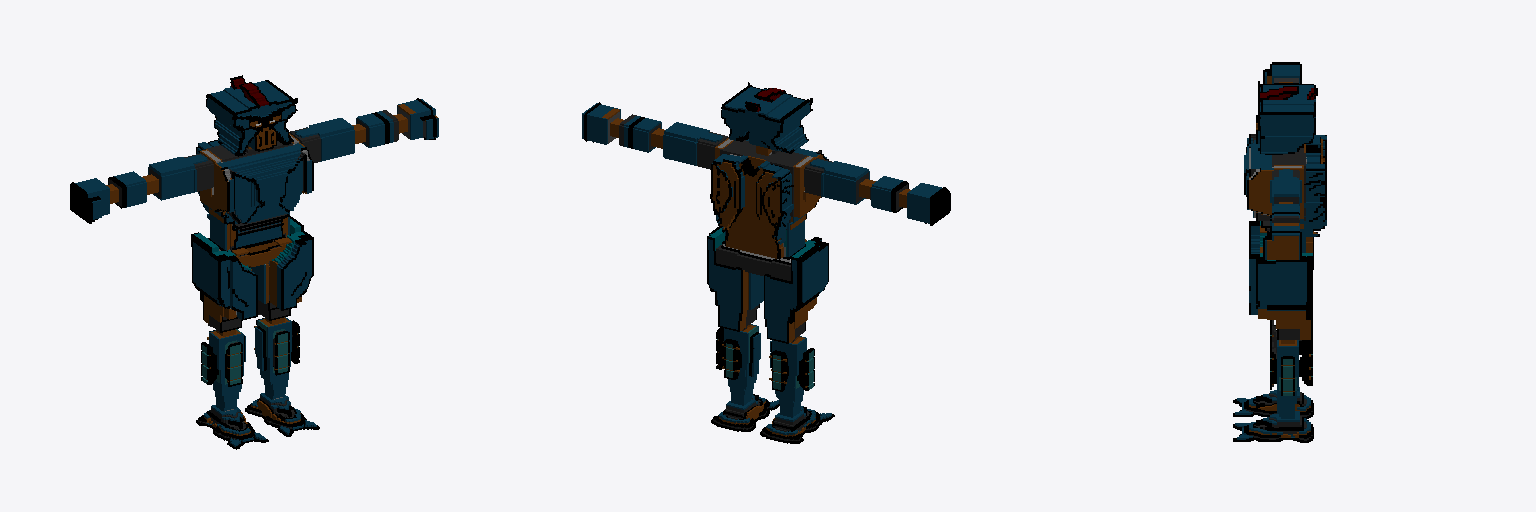
3 renders of one model, left to right at view 1: azimuth 30°, elevation 25°; view 2: azimuth 150°, elevation 25°; view 3: azimuth 270°, elevation 25°, orthographic.
Parts seen in each view (by area): view 1: object 1; view 2: object 1; view 3: object 1.
Boxes of the visible parts, <box> form: object 1: <box>70,75,438,449</box>; object 1: <box>582,82,950,443</box>; object 1: <box>1233,62,1326,442</box>.
Size of the model in its own units: 23 by 20.8 by 5.3.
Materials: 1 (1 with a texture image).